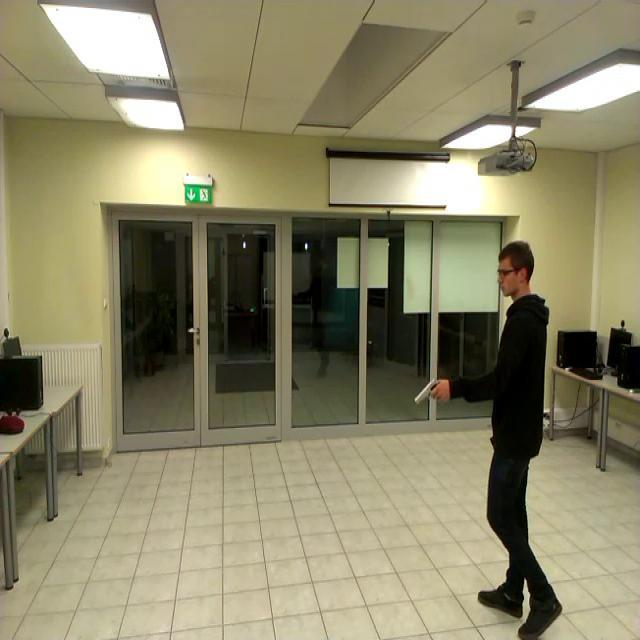Gun: (416, 376, 444, 404)
